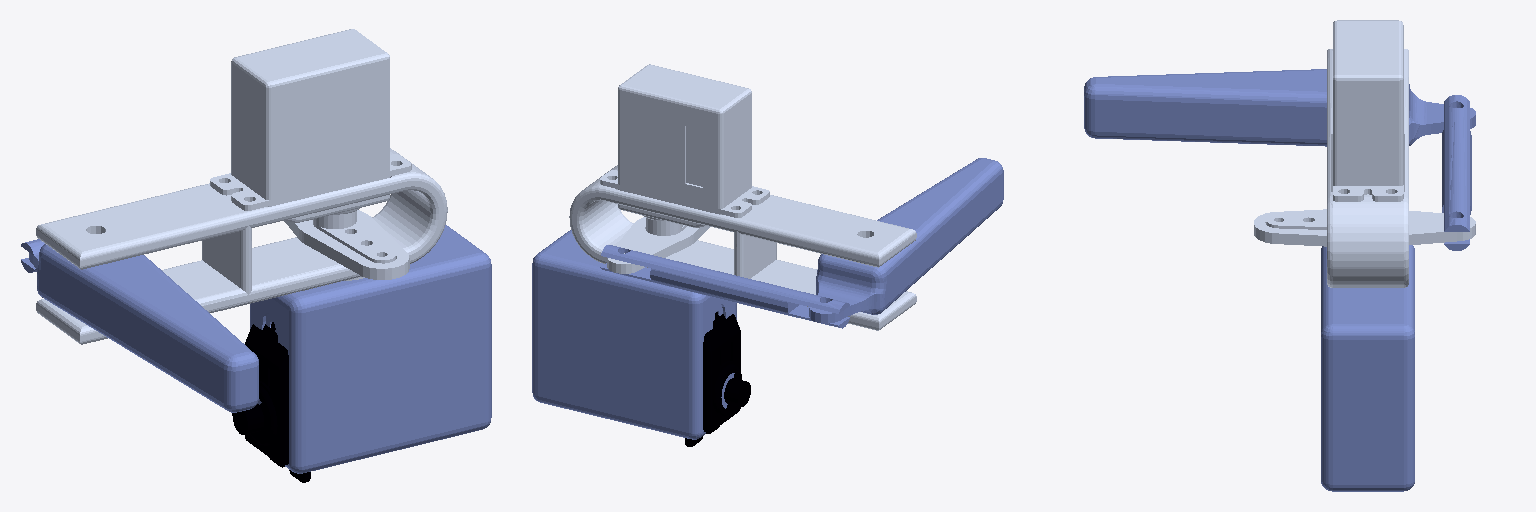
The robot description file, URDF, robot "fixed_limb_test":
<?xml version="1.0" encoding="utf-8"?>
<!-- This URDF was automatically created by SolidWorks to URDF Exporter! Originally created by Stephen Brawner (brawner@gmail.com) 
     Commit Version: 1.6.0-4-g7f85cfe  Build Version: 1.6.7995.38578
     For more information, please see http://wiki.ros.org/sw_urdf_exporter -->
<robot
  name="fixed_limb_test">
  <link
    name="base_link">
    <inertial>
      <origin
        xyz="0.012807313311312 0.00598090852226242 -0.0117251285139543"
        rpy="0 0 0" />
      <mass
        value="0.00723402556361831" />
      <inertia
        ixx="4.05147247523767E-07"
        ixy="3.01231584549377E-10"
        ixz="-1.88167986432032E-08"
        iyy="7.38938259329422E-07"
        iyz="7.90595902470049E-10"
        izz="5.0342421323583E-07" />
    </inertial>
    <visual>
      <origin
        xyz="0 0 0"
        rpy="0 0 0" />
      <geometry>
        <mesh
          filename="package://fixed_limb_test/meshes/base_link.STL" />
      </geometry>
      <material
        name="">
        <color
          rgba="0.00392156862745098 0 0.0196078431372549 1" />
      </material>
    </visual>
    <collision>
      <origin
        xyz="0 0 0"
        rpy="0 0 0" />
      <geometry>
        <mesh
          filename="package://fixed_limb_test/meshes/base_link.STL" />
      </geometry>
    </collision>
  </link>
  <link
    name="shoulder_link">
    <inertial>
      <origin
        xyz="0.00770399429191724 9.32504877206378E-06 0.0207339193469641"
        rpy="0 0 0" />
      <mass
        value="0.0148104574438063" />
      <inertia
        ixx="1.88189230614178E-06"
        ixy="3.01231584549858E-10"
        ixz="1.68325026936694E-08"
        iyy="2.59134654836223E-06"
        iyz="-7.90595902469875E-10"
        izz="1.39963201919848E-06" />
    </inertial>
    <visual>
      <origin
        xyz="0 0 0"
        rpy="0 0 0" />
      <geometry>
        <mesh
          filename="package://fixed_limb_test/meshes/shoulder_link.STL" />
      </geometry>
      <material
        name="">
        <color
          rgba="0.545098039215686 0.615686274509804 0.858823529411765 1" />
      </material>
    </visual>
    <collision>
      <origin
        xyz="0 0 0"
        rpy="0 0 0" />
      <geometry>
        <mesh
          filename="package://fixed_limb_test/meshes/shoulder_link.STL" />
      </geometry>
    </collision>
  </link>
  <joint
    name="haa_joint"
    type="revolute">
    <origin
      xyz="-0.001 0.006 -0.016"
      rpy="3.1416 -1.5708 0" />
    <parent
      link="base_link" />
    <child
      link="shoulder_link" />
    <axis
      xyz="0 0 1" />
    <limit
      lower="-1.5708"
      upper="0"
      effort="0"
      velocity="0" />
  </joint>
  <link
    name="femur_link">
    <inertial>
      <origin
        xyz="0.0124792168310497 9.99428181540189E-06 0.0185705130302731"
        rpy="0 0 0" />
      <mass
        value="0.0138239022547814" />
      <inertia
        ixx="8.42245738682422E-07"
        ixy="-7.91960713042997E-10"
        ixz="-9.47919040177247E-08"
        iyy="3.58798405876978E-06"
        iyz="-3.01970991415103E-10"
        izz="3.1267090240501E-06" />
    </inertial>
    <visual>
      <origin
        xyz="0 0 0"
        rpy="0 0 0" />
      <geometry>
        <mesh
          filename="package://fixed_limb_test/meshes/femur_link.STL" />
      </geometry>
      <material
        name="">
        <color
          rgba="0.866666666666667 0.909803921568627 1 1" />
      </material>
    </visual>
    <collision>
      <origin
        xyz="0 0 0"
        rpy="0 0 0" />
      <geometry>
        <mesh
          filename="package://fixed_limb_test/meshes/femur_link.STL" />
      </geometry>
    </collision>
  </link>
  <joint
    name="hfe_joint"
    type="revolute">
    <origin
      xyz="0.020875 0 0.0165"
      rpy="0 1.5708 0" />
    <parent
      link="shoulder_link" />
    <child
      link="femur_link" />
    <axis
      xyz="0 0 -1" />
    <limit
      lower="0"
      upper="3.14"
      effort="0"
      velocity="0" />
  </joint>
  <link
    name="tibia_link">
    <inertial>
      <origin
        xyz="0.0156981068181742 3.55361015266786E-09 7.93462496675047E-05"
        rpy="0 0 0" />
      <mass
        value="0.0070755567397191" />
      <inertia
        ixx="1.28214686803871E-07"
        ixy="4.5956055502833E-13"
        ixz="1.45828471109314E-08"
        iyy="1.81740201742321E-06"
        iyz="-7.36270952752015E-14"
        izz="1.83619400245263E-06" />
    </inertial>
    <visual>
      <origin
        xyz="0 0 0"
        rpy="0 0 0" />
      <geometry>
        <mesh
          filename="package://fixed_limb_test/meshes/tibia_link.STL" />
      </geometry>
      <material
        name="">
        <color
          rgba="0.545098039215686 0.615686274509804 0.858823529411765 1" />
      </material>
    </visual>
    <collision>
      <origin
        xyz="0 0 0"
        rpy="0 0 0" />
      <geometry>
        <mesh
          filename="package://fixed_limb_test/meshes/tibia_link.STL" />
      </geometry>
    </collision>
  </link>
  <joint
    name="knee_joint"
    type="revolute">
    <origin
      xyz="0.046 0 0.0106"
      rpy="-3.1416 0 1.5708" />
    <parent
      link="femur_link" />
    <child
      link="tibia_link" />
    <axis
      xyz="0 0 1" />
    <limit
      lower="-0.87267"
      upper="0.87267"
      effort="0"
      velocity="0" />
  </joint>
  <link
    name="tab_link">
    <inertial>
      <origin
        xyz="-0.00203367196621368 -6.01949046163952E-16 0.00395500792852426"
        rpy="0 0 0" />
      <mass
        value="0.00116134718742782" />
      <inertia
        ixx="9.1005400789047E-09"
        ixy="-7.94186594852218E-22"
        ixz="1.61623668129035E-09"
        iyy="8.60231140276365E-08"
        iyz="-2.37565391241938E-23"
        izz="9.3647667205365E-08" />
    </inertial>
    <visual>
      <origin
        xyz="0 0 0"
        rpy="0 0 0" />
      <geometry>
        <mesh
          filename="package://fixed_limb_test/meshes/tab_link.STL" />
      </geometry>
      <material
        name="">
        <color
          rgba="0.866666666666667 0.909803921568627 1 1" />
      </material>
    </visual>
    <collision>
      <origin
        xyz="0 0 0"
        rpy="0 0 0" />
      <geometry>
        <mesh
          filename="package://fixed_limb_test/meshes/tab_link.STL" />
      </geometry>
    </collision>
  </link>
  <joint
    name="kfe_motor_joint"
    type="revolute">
    <origin
      xyz="0.002 0 0.0132"
      rpy="-3.1416 0 -1.5708" />
    <parent
      link="femur_link" />
    <child
      link="tab_link" />
    <axis
      xyz="0 0 -1" />
    <limit
      lower="-0.87267"
      upper="0.87267"
      effort="0"
      velocity="0" />
  </joint>
  <link
    name="rod_link">
    <inertial>
      <origin
        xyz="0.021999975174988 7.77439050636541E-09 -6.17363184046704E-08"
        rpy="0 0 0" />
      <mass
        value="0.000929490166689096" />
      <inertia
        ixx="3.11724892800746E-09"
        ixy="-1.76984253516657E-14"
        ixz="1.0644090388813E-13"
        iyy="1.38486128282688E-07"
        iyz="5.69419412480685E-14"
        izz="1.38113398710736E-07" />
    </inertial>
    <visual>
      <origin
        xyz="0 0 0"
        rpy="0 0 0" />
      <geometry>
        <mesh
          filename="package://fixed_limb_test/meshes/rod_link.STL" />
      </geometry>
      <material
        name="">
        <color
          rgba="0.545098039215686 0.615686274509804 0.858823529411765 1" />
      </material>
    </visual>
    <collision>
      <origin
        xyz="0 0 0"
        rpy="0 0 0" />
      <geometry>
        <mesh
          filename="package://fixed_limb_test/meshes/rod_link.STL" />
      </geometry>
    </collision>
  </link>
  <joint
    name="rod_joint"
    type="revolute">
    <origin
      xyz="0.015 0 0.0045"
      rpy="0 0 -1.5708" />
    <parent
      link="tab_link" />
    <child
      link="rod_link" />
    <axis
      xyz="0 0 -1" />
    <limit
      lower="-0.87267"
      upper="0.87267"
      effort="0"
      velocity="0" />
  </joint>
</robot>

--- What the picture shows (computed from the rendered views, not written in the file) ---
3 views of the same robot in one strip: view 1: azimuth 30°, elevation 25°; view 2: azimuth 150°, elevation 25°; view 3: azimuth 270°, elevation 25° (orthographic).
Model fixed_limb_test with 6 links and 5 joints (5 revolute), rooted at base_link, posed all joints at 0.
Links seen in each view (by area): view 1: femur_link, shoulder_link, tibia_link, tab_link, base_link; view 2: femur_link, shoulder_link, tibia_link, rod_link, base_link, tab_link; view 3: femur_link, shoulder_link, tibia_link, rod_link, tab_link.
Boxes of the visible links, x1=… form: femur_link: x1=36, y1=29, x2=447, y2=344; shoulder_link: x1=250, y1=225, x2=491, y2=473; tibia_link: x1=29, y1=244, x2=258, y2=412; tab_link: x1=284, y1=210, x2=409, y2=279; base_link: x1=232, y1=322, x2=310, y2=482; femur_link: x1=569, y1=64, x2=916, y2=330; shoulder_link: x1=532, y1=230, x2=736, y2=439; tibia_link: x1=809, y1=158, x2=1003, y2=323; rod_link: x1=600, y1=245, x2=849, y2=328; base_link: x1=685, y1=312, x2=750, y2=446; tab_link: x1=607, y1=217, x2=709, y2=273; femur_link: x1=1327, y1=20, x2=1408, y2=287; shoulder_link: x1=1321, y1=245, x2=1414, y2=491; tibia_link: x1=1084, y1=69, x2=1475, y2=146; rod_link: x1=1442, y1=95, x2=1471, y2=250; tab_link: x1=1254, y1=209, x2=1475, y2=246.
Size in the robot's own frame: 0.0764 by 0.0663 by 0.0721 metres.
Meshes: 6 distinct files referenced, 6 mesh visuals loaded (6 binary STL).
